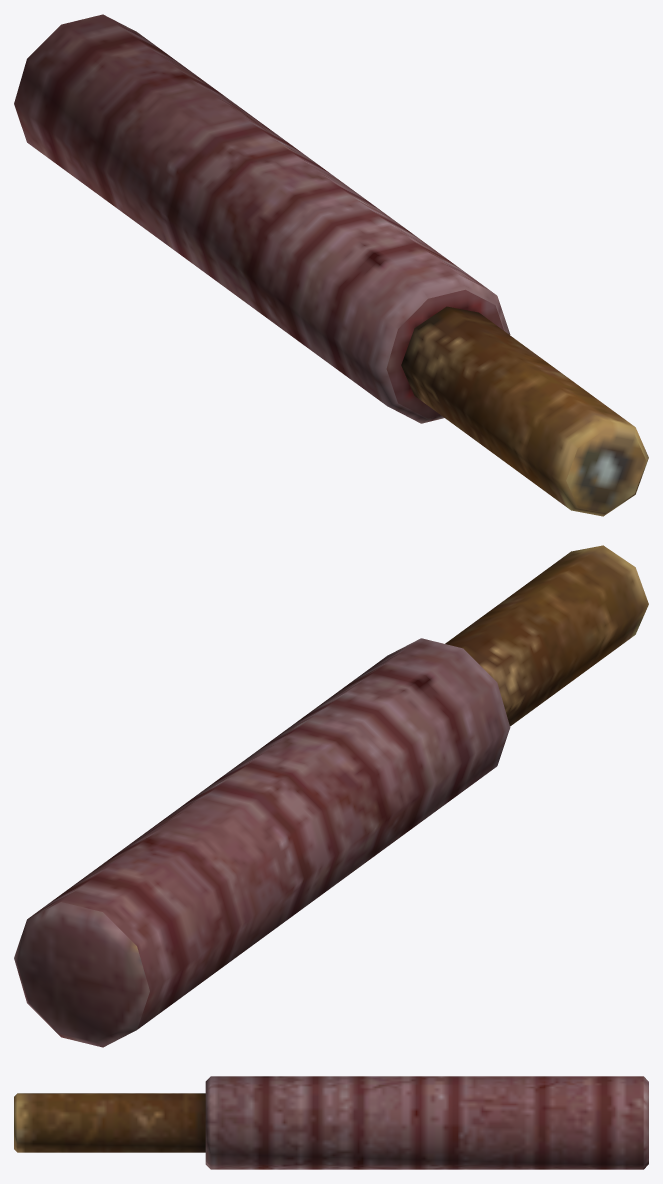
File: guiding_rod02.dae
The picture shows the model from 3 angles, top to bottom: view 1: azimuth 30°, elevation 25°; view 2: azimuth 150°, elevation 25°; view 3: azimuth 270°, elevation 25°; orthographic projection. The views are drawn at different scales.
Parts seen in each view (by area): view 1: guiding_rod02; view 2: guiding_rod02; view 3: guiding_rod02.
Part boxes in pixels (bbox=[...]): guiding_rod02: bbox=[14, 14, 648, 516]; guiding_rod02: bbox=[14, 545, 648, 1047]; guiding_rod02: bbox=[14, 1076, 648, 1169].
Bounding box in the file's own units: 0.0743 × 0.0707 × 0.5.
